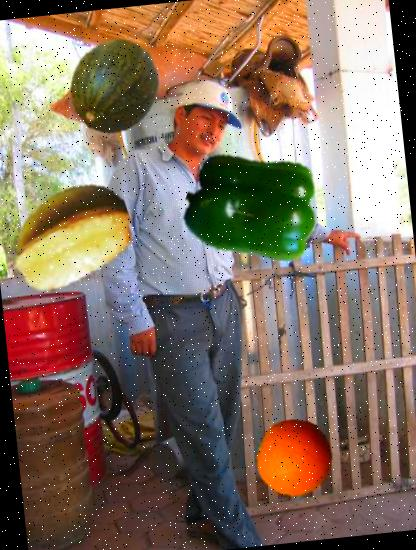Carambula: (0, 165, 139, 305)
Melon: (63, 34, 166, 137)
Orange: (252, 415, 336, 500)
Pepper: (180, 132, 326, 278)
